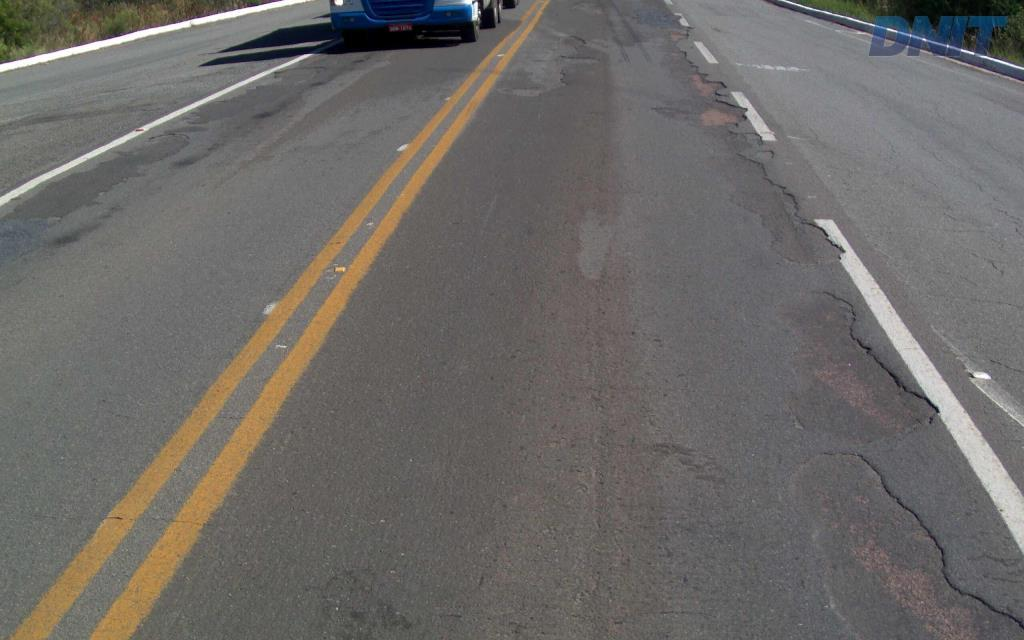pothole: (663, 23, 848, 268), (785, 448, 1022, 638), (767, 287, 943, 445)
